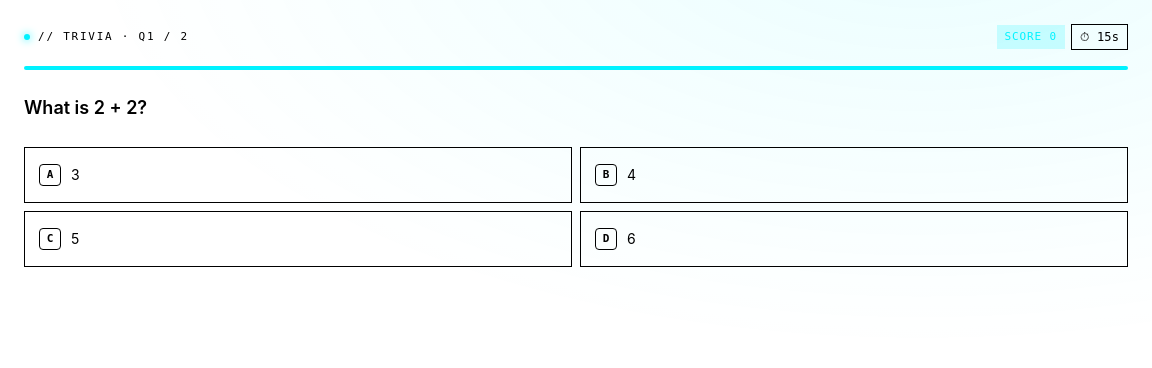
Test: TriviaExperience › shows Next question button after an answer is selected
This screenshot has width=1152, height=368.
Click the text "4" at (632,175), box [627,165,636,185]
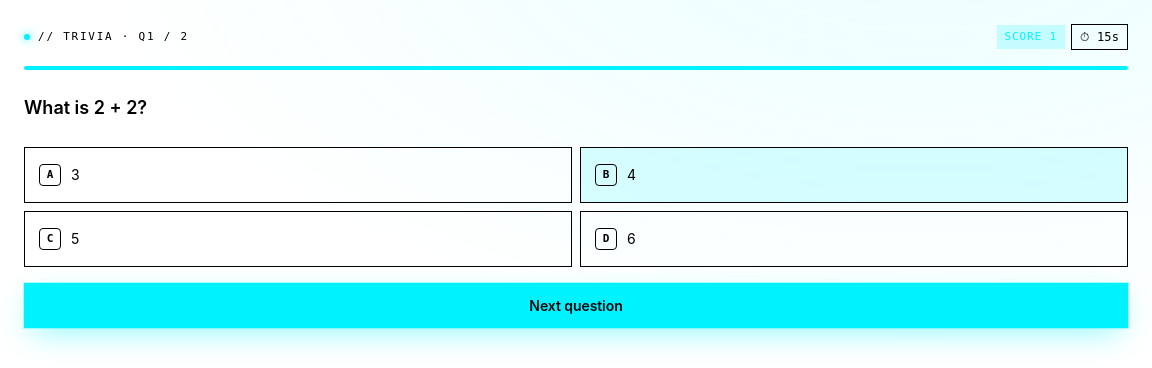
Expected: the button "Next question" is shown, [24,283,1128,328]
